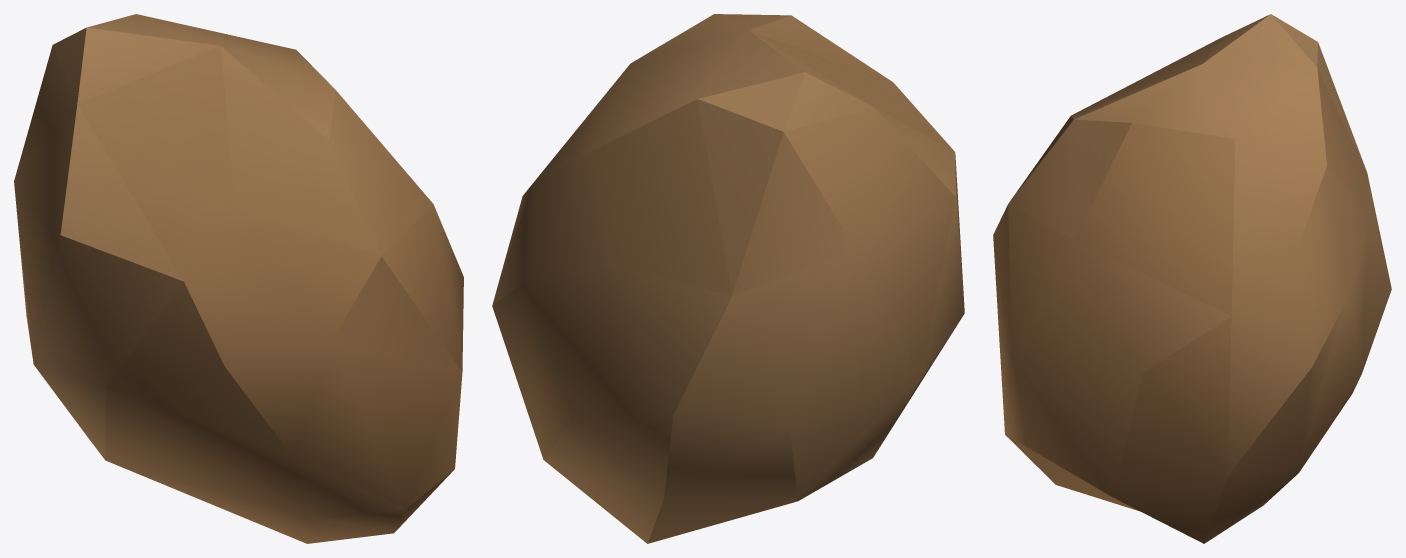
The model's file is Rock_3_B_Color5.fbx.
The picture shows the model from 3 angles, left to right: view 1: azimuth 30°, elevation 25°; view 2: azimuth 150°, elevation 25°; view 3: azimuth 270°, elevation 25°; orthographic projection. The views are drawn at different scales.
Visible parts, largest first — view 1: Rock_3_B_Color5; view 2: Rock_3_B_Color5; view 3: Rock_3_B_Color5.
Part boxes in pixels (left/top/right/bottom): Rock_3_B_Color5: left=14, top=14, right=463, bottom=543; Rock_3_B_Color5: left=492, top=14, right=964, bottom=543; Rock_3_B_Color5: left=993, top=14, right=1391, bottom=543.
Size of the model in its own units: 0.8192 by 1.03 by 0.8468.
